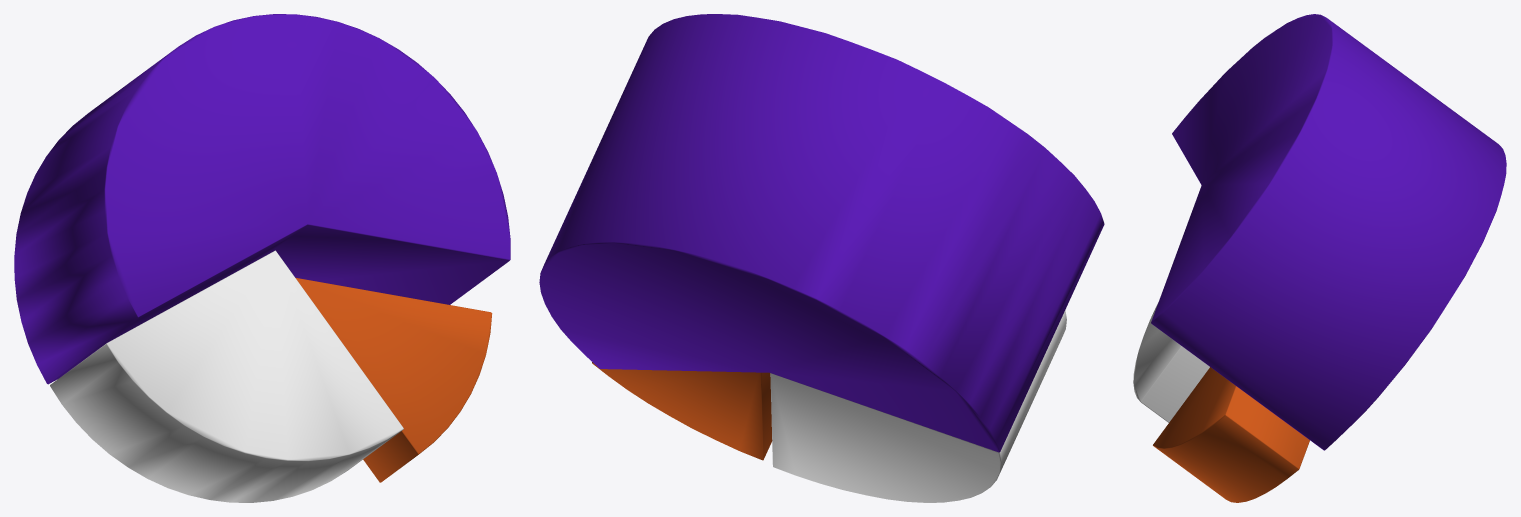
Rendered from chart.glb.
The picture shows the model from 3 angles, left to right: view 1: azimuth 30°, elevation 25°; view 2: azimuth 150°, elevation 25°; view 3: azimuth 270°, elevation 25°; orthographic projection. The views are drawn at different scales.
Parts seen in each view (by area): view 1: Cylinder.001; view 2: Cylinder.001; view 3: Cylinder.001.
Part boxes in pixels (x1=…): Cylinder.001: x1=14, y1=14, x2=510, y2=502; Cylinder.001: x1=539, y1=14, x2=1104, y2=502; Cylinder.001: x1=1133, y1=14, x2=1506, y2=502.
Bounding box in the file's own units: 1.82 × 1.99 × 1.59.
